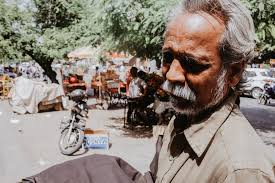Indian_Male: (163, 25, 218, 116)
